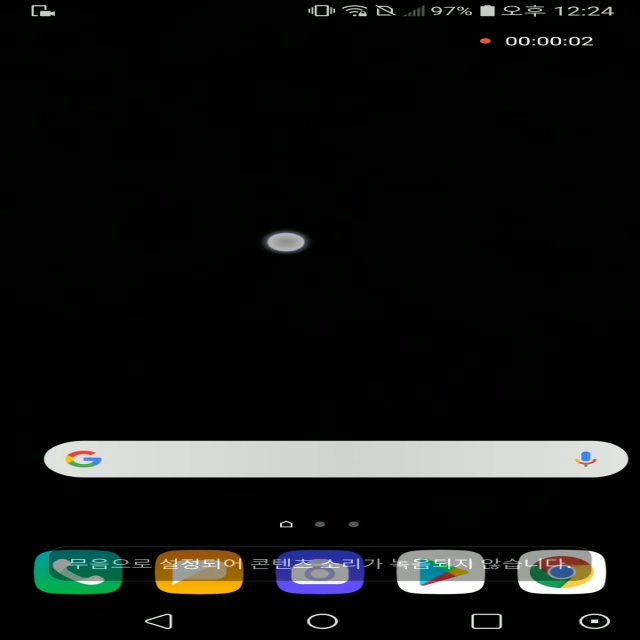Cursor: (264, 232, 309, 254)
